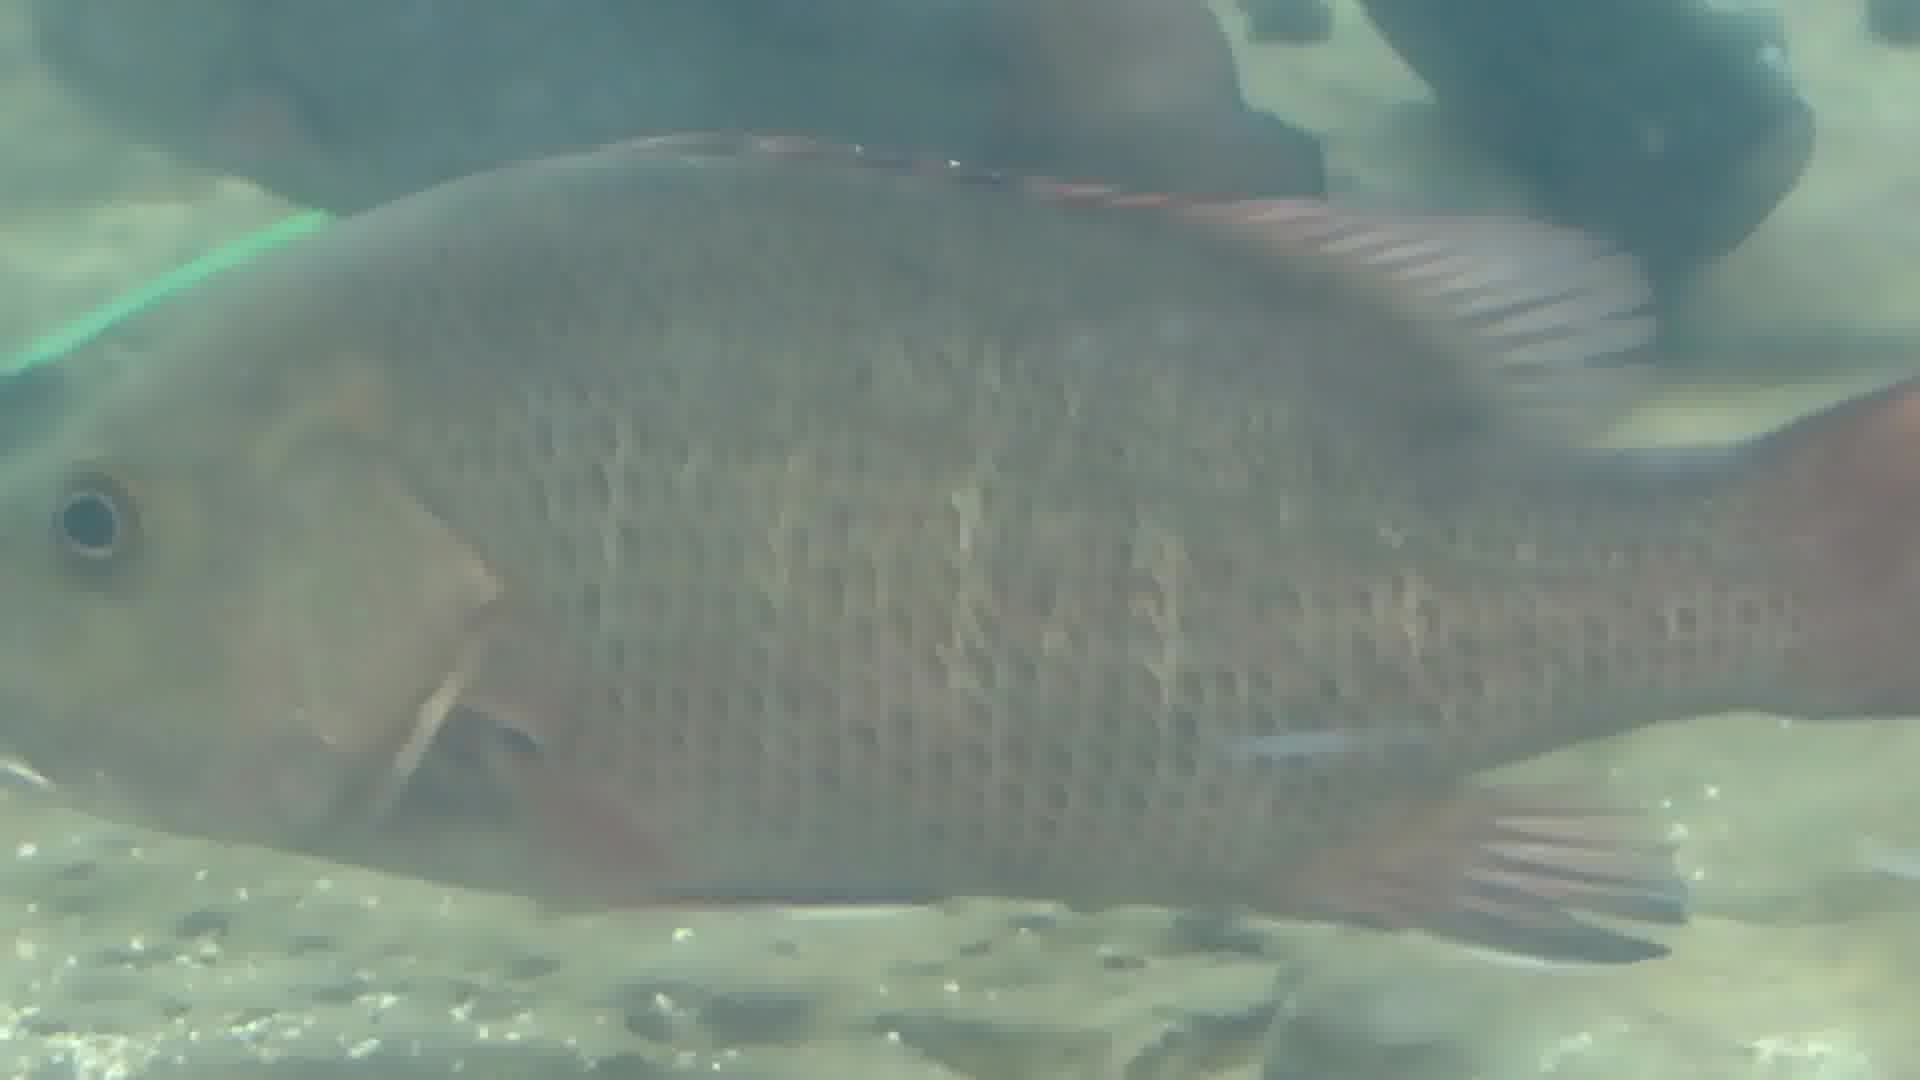Lutjanus argentimaculatus: (11, 150, 1902, 938)
